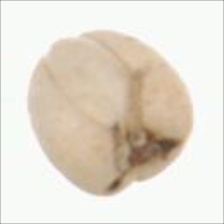L5: (38, 31, 138, 129), (104, 112, 187, 193)
L6: (24, 27, 197, 202)
